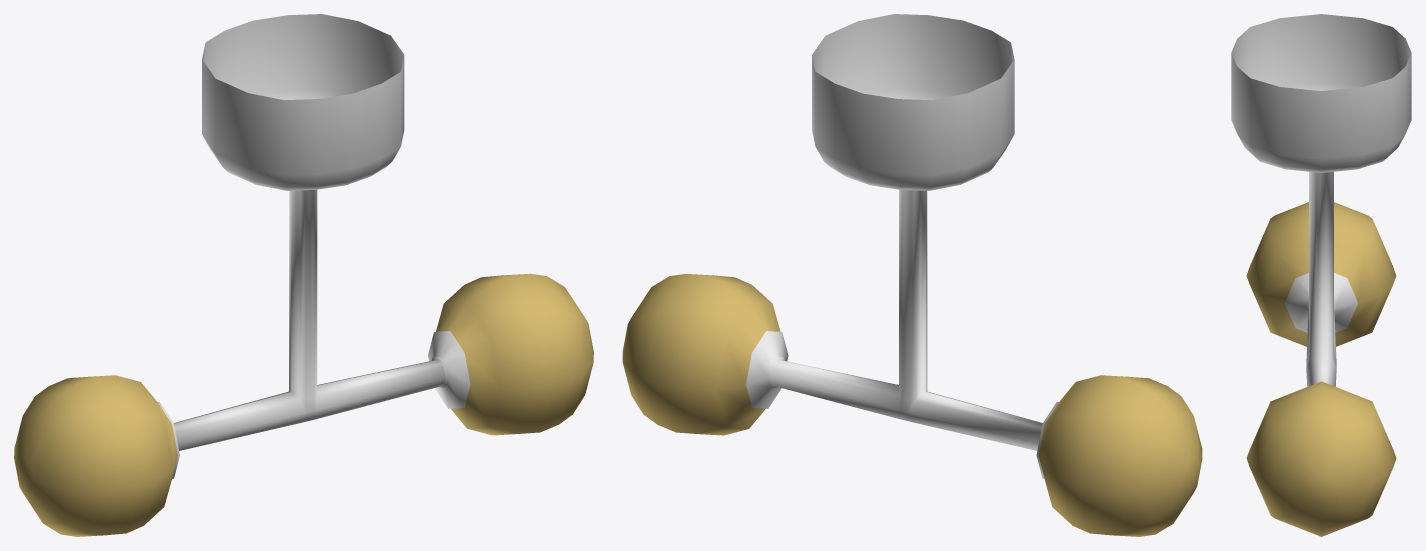
File: suspension_bulle_2.fbx
The picture shows the model from 3 angles, left to right: view 1: azimuth 30°, elevation 25°; view 2: azimuth 150°, elevation 25°; view 3: azimuth 270°, elevation 25°; orthographic projection. The views are drawn at different scales.
Parts seen in each view (by area): view 1: luminaire_bulle_1; view 2: luminaire_bulle_1; view 3: luminaire_bulle_1.
Part boxes in pixels (bbox=[...]): luminaire_bulle_1: bbox=[14, 14, 593, 536]; luminaire_bulle_1: bbox=[622, 14, 1202, 536]; luminaire_bulle_1: bbox=[1231, 14, 1411, 536].
Bounding box in the file's own units: 0.0424 × 0.0309 × 0.0131.
